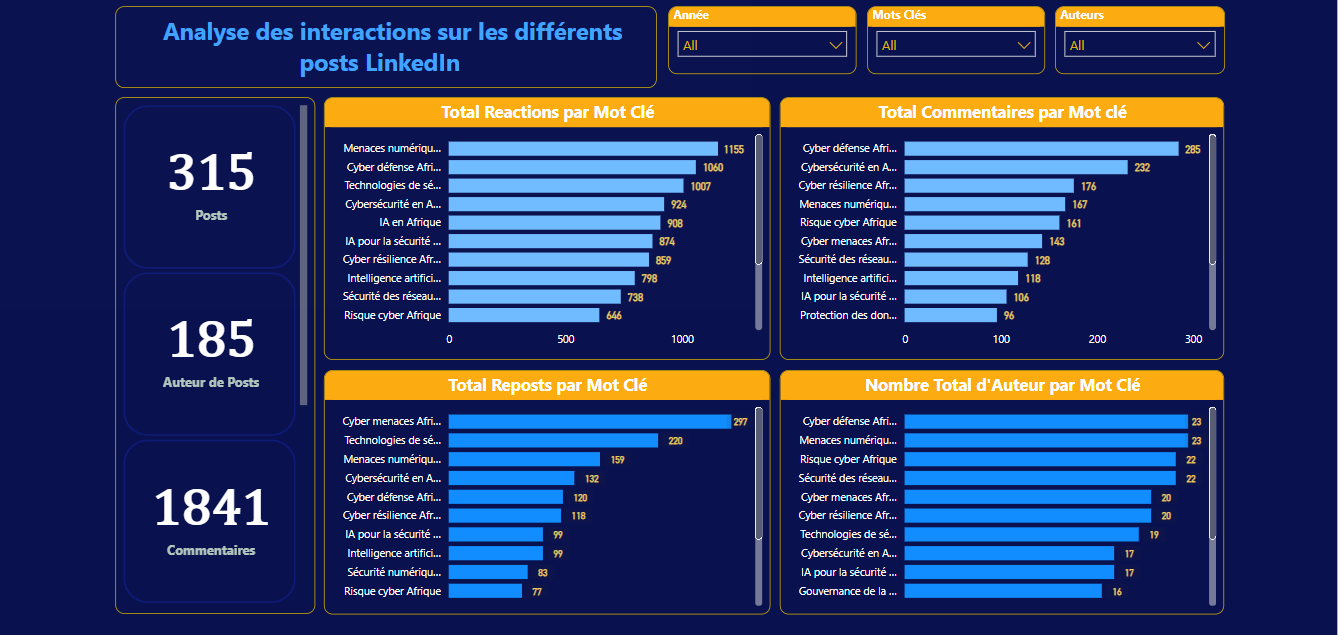

What the dashboard file says about the page in this screenshot:
{"tool":"powerbi","page":{"name":"Analyse des Engagements","canvas":[1280,720],"ordinal":1},"visuals":[{"type":"cardVisual","fields":{"Data":["CountNonNull(linkedin_posts_cleaned.Content)","Count(linkedin_posts_cleaned.Auteur)","Sum(linkedin_posts_cleaned.Commentaire)","Sum(linkedin_posts_cleaned.Repost)","Sum(linkedin_posts_cleaned.Like)"]},"box":[15.4,111.3,226.2,583.9],"z":0},{"type":"barChart","title":"Total Reactions par Mot Clé","fields":{"Category":["linkedin_posts_cleaned.Keyword"],"Y":["Sum(linkedin_posts_cleaned.Like)"]},"box":[251.1,111.3,504.5,297.3],"z":1000},{"type":"barChart","title":"Total Commentaires par Mot clé","fields":{"Category":["linkedin_posts_cleaned.Mots Clés"],"Y":["Sum(linkedin_posts_cleaned.Commentaire)"]},"box":[766.2,111.3,502.1,297.3],"z":2000},{"type":"barChart","title":"Total Reposts par Mot Clé","fields":{"Category":["linkedin_posts_cleaned.Mots Clés"],"Y":["Sum(linkedin_posts_cleaned.Repost)"]},"box":[251.1,419.2,504.5,275.9],"z":3000},{"type":"textbox","box":[15.4,8.3,612.3,92.4],"z":4000},{"type":"slicer","title":"Année","fields":{"Values":["linkedin_posts_cleaned.Date.Variation.Date Hierarchy.Year","linkedin_posts_cleaned.Date.Variation.Date Hierarchy.Month","linkedin_posts_cleaned.Date.Variation.Date Hierarchy.Day"]},"box":[639.5,8.3,213.2,77],"z":5000},{"type":"slicer","title":"Mots Clés","fields":{"Values":["linkedin_posts_cleaned.Mots Clés"]},"box":[864.5,8.3,201.3,77],"z":6000},{"type":"barChart","title":"Nombre Total d''Auteur par Mot Clé","fields":{"Category":["linkedin_posts_cleaned.Mots Clés"],"Y":["Count(linkedin_posts_cleaned.Auteur)"]},"box":[766.2,419.2,502.1,275.9],"z":7000},{"type":"slicer","title":"Auteurs","fields":{"Values":["linkedin_posts_cleaned.Auteur"]},"box":[1076.5,8.3,191.9,77],"z":8000}]}

Visuals, with their boxes on the page's 1280x720 design canvas (x1, y1, x2, y2). These are canvas units, not pixel positions in the 1342x635 screenshot, which may show the page scaled, cropped or inside an application window:
cardVisual - CountNonNull(linkedin_posts_cleaned.Content) x Count(linkedin_posts_cleaned.Auteur): 15/111/242/695
"Total Reactions par Mot Clé" barChart: 251/111/756/409
"Total Commentaires par Mot clé" barChart: 766/111/1268/409
"Total Reposts par Mot Clé" barChart: 251/419/756/695
textbox: 15/8/628/101
"Année" slicer: 640/8/853/85
"Mots Clés" slicer: 864/8/1066/85
"Nombre Total d''Auteur par Mot Clé" barChart: 766/419/1268/695
"Auteurs" slicer: 1076/8/1268/85
